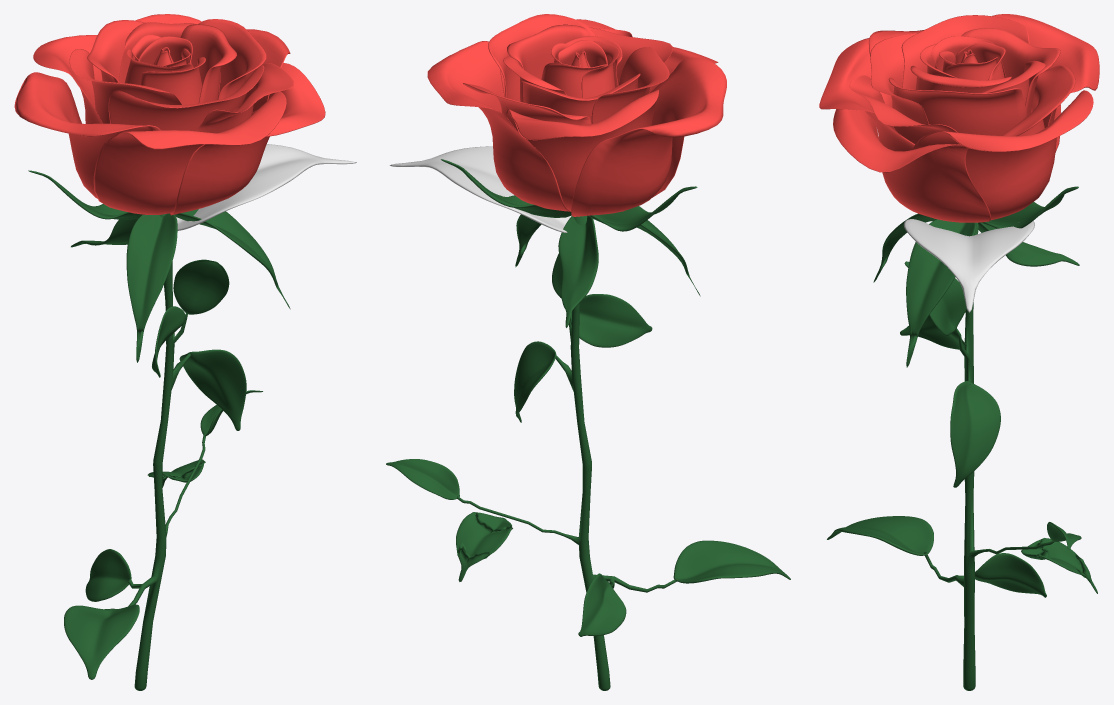
File: rose volume.fbx
3 renders of one model, left to right at view 1: azimuth 30°, elevation 25°; view 2: azimuth 150°, elevation 25°; view 3: azimuth 270°, elevation 25°, orthographic. The views are drawn at different scales.
Parts seen in each view (by area): view 1: rose3_5.008, rose3_5.006, rose3_5.007, Cylinder, leaf.002, rose3_5, leaf, leaf.011, leaf.007, leaf.008, rose3_2, rose3_5.001 (+15 smaller); view 2: rose3_5.007, rose3_5.005, rose3_5.003, Cylinder, leaf.011, leaf, leaf.006, leaf.004, rose3_4, leaf.009, rose3_5.001, leaf.012 (+13 smaller); view 3: rose3_5.006, rose3_5.005, leaf, rose3_5.001, Cylinder, leaf.007, leaf.001, rose3_5.008, rose3_5.003, rose3_4, leaf.011, rose3_5 (+17 smaller).
Part boxes in pixels (x1,y1,x2,y2): rose3_5.008: (93,91,286,214); rose3_5.006: (170,63,325,215); rose3_5.007: (14,72,160,198); Cylinder: (108,214,205,690); leaf.002: (126,213,177,362); rose3_5: (108,65,264,131); leaf: (176,144,356,230); leaf.011: (64,604,139,679); leaf.007: (179,349,246,430); leaf.008: (173,259,229,314); rose3_2: (180,24,236,103); rose3_5.001: (198,19,266,112); rose3_5.007: (571,57,726,216); rose3_5.005: (427,41,570,211); rose3_5.003: (506,89,658,210); Cylinder: (457,216,678,690); leaf.011: (673,540,790,583); leaf: (389,146,571,232); leaf.006: (570,294,652,347); leaf.004: (558,215,598,327); rose3_4: (591,47,669,123); leaf.009: (456,512,512,581); rose3_5.001: (488,14,595,109); leaf.012: (578,573,626,636); rose3_5.006: (833,109,990,222); rose3_5.005: (912,90,1093,220); leaf: (904,219,1034,312); rose3_5.001: (888,77,1026,135); Cylinder: (924,222,1054,690); leaf.007: (950,380,1000,487); leaf.001: (906,219,976,367); rose3_5.008: (819,38,914,151); rose3_5.003: (992,14,1099,127); rose3_4: (901,15,1029,89); leaf.011: (827,516,933,555); rose3_5: (870,33,928,124).
Bounding box in the file's own units: 596 × 1078 × 420.
